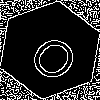O: (25, 25, 89, 86)
